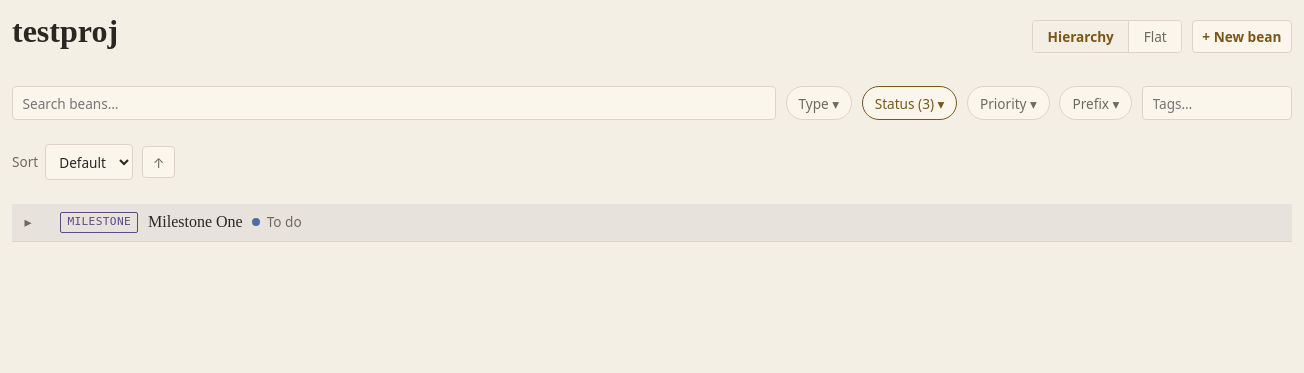
Scenario: ProjectList › switches to the flat view when the Flat toggle is clicked, and persists the choice
Expected: the text "Milestone One" is shown, [148,210,243,234]
Click the button "Flat".
click(1155, 36)  # box [1128,21,1181,52]
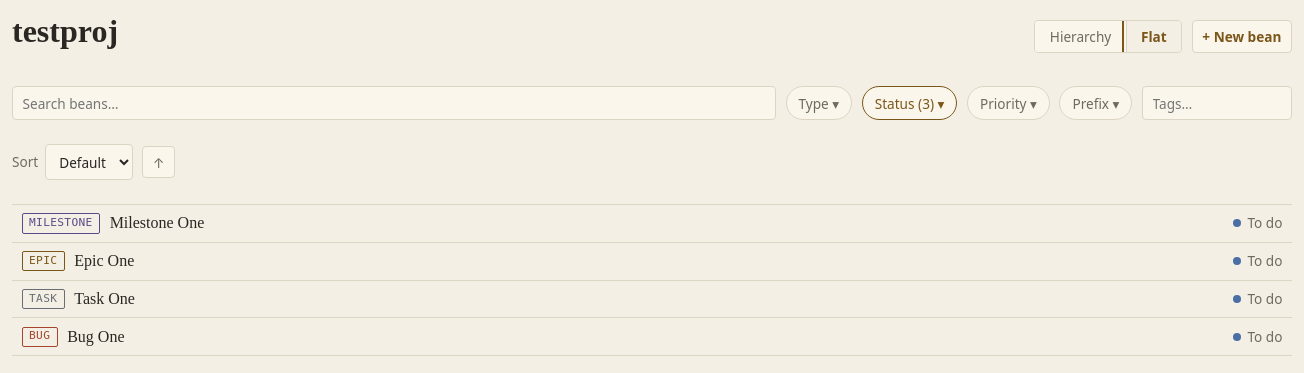
Expected: the text "Task One" is shown, [74,290,135,307]
